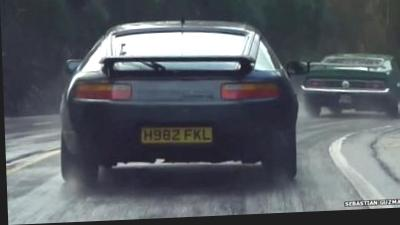License_Plate: (140, 124, 215, 146)
